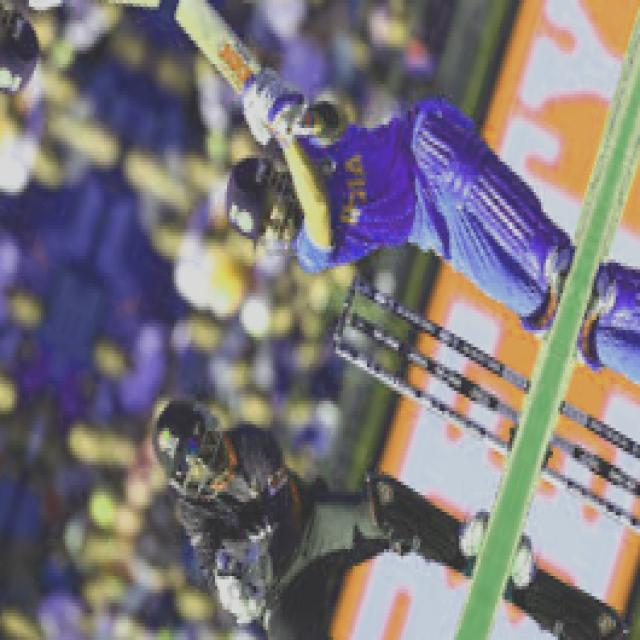toe: (164, 0, 217, 32)
